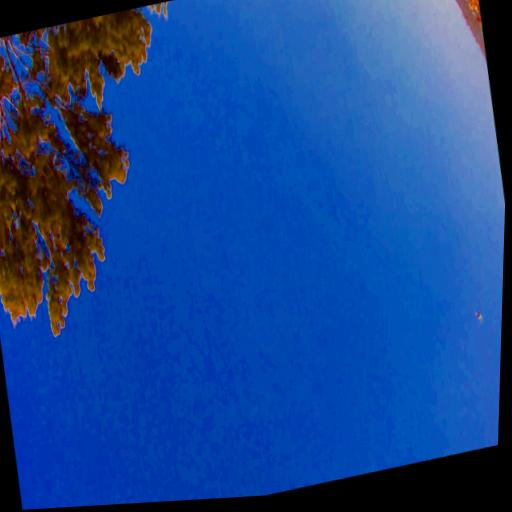drones: (471, 304, 485, 326)
